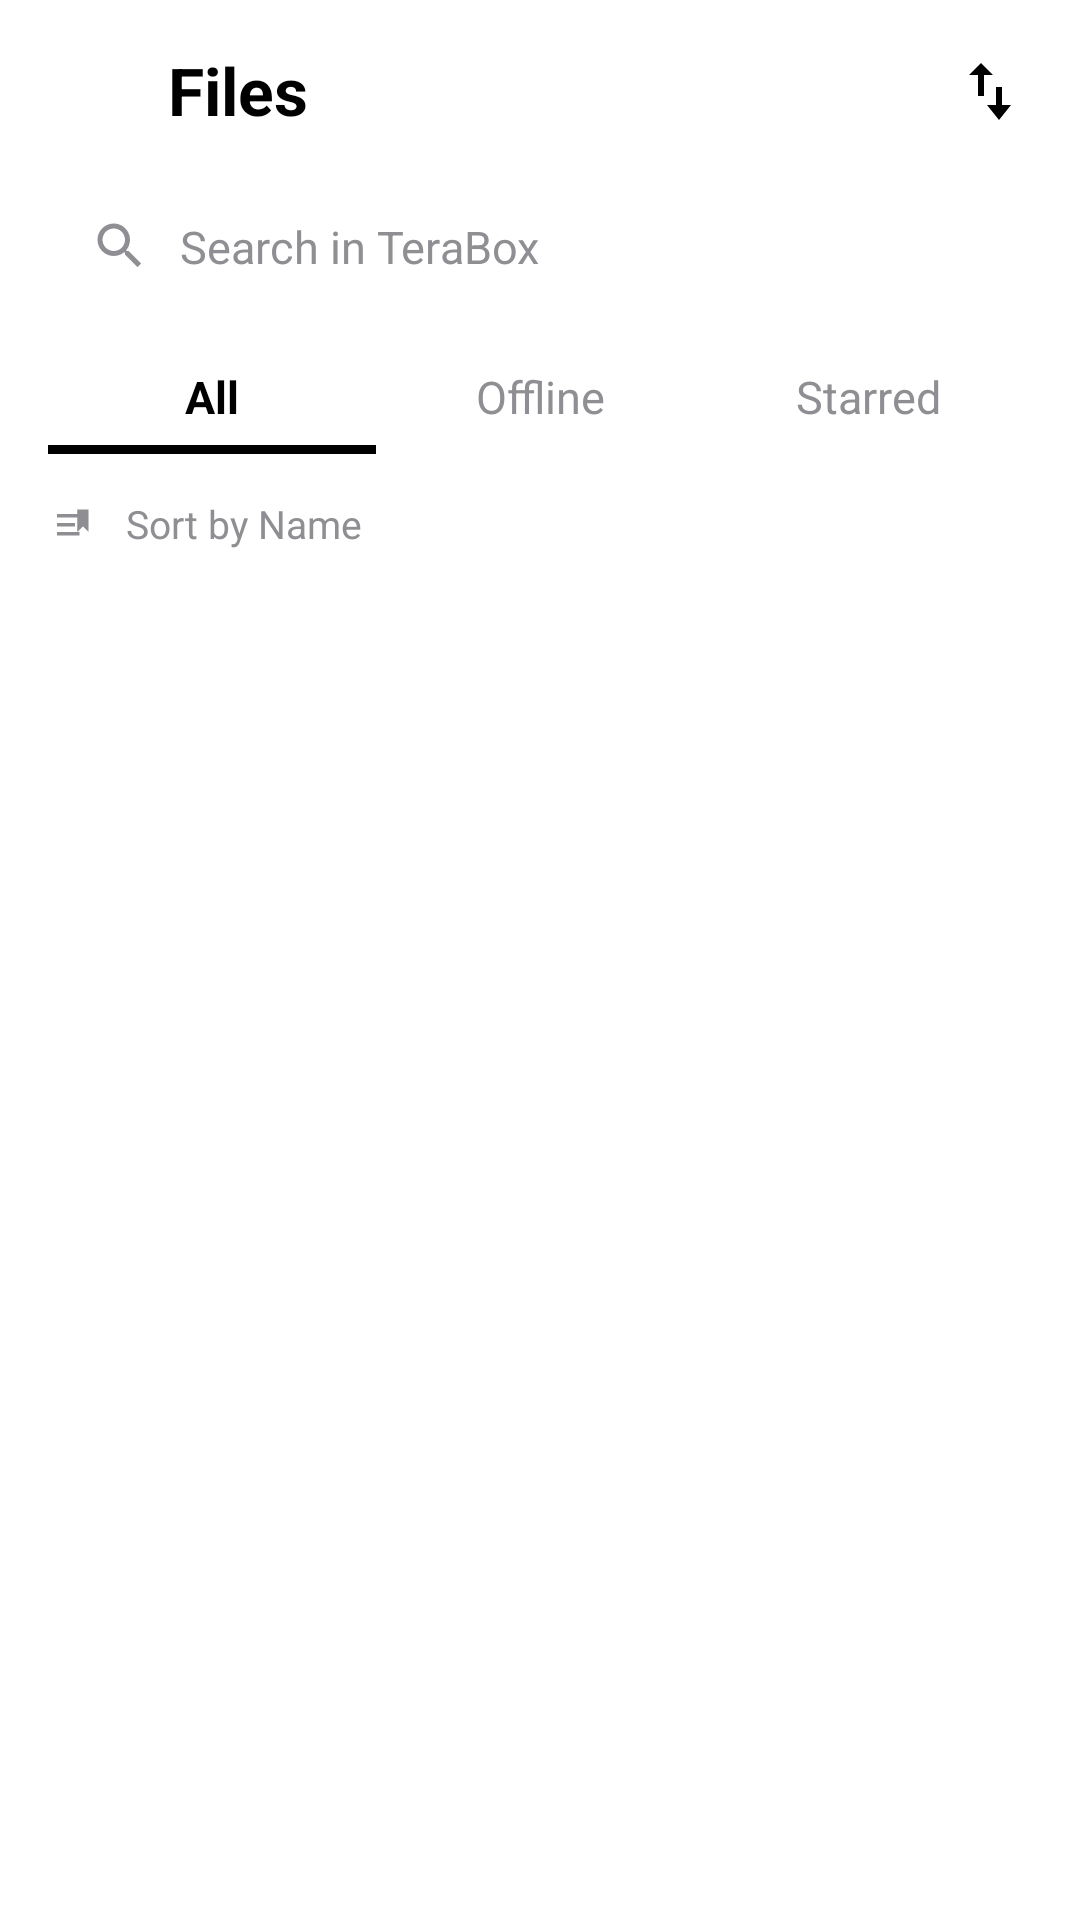

Where to tap for icons on this 1080*1920 app screen, as point (x, y):
Sort: point (990, 91)
